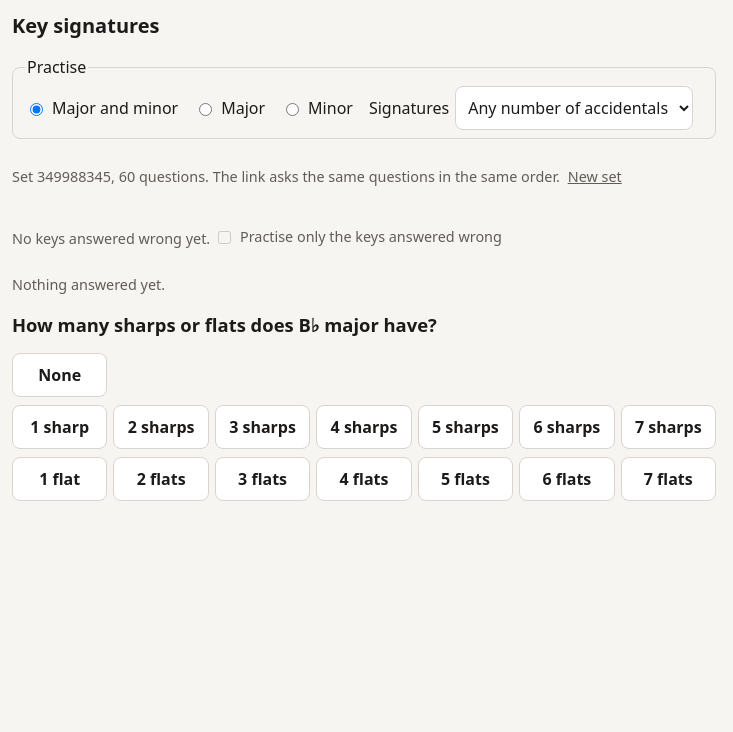
KeyQuiz: how many? › scores a right answer and shows the circle of fifths
Click the button "2 flats" at [161, 479], box 113,457 -> 209,501
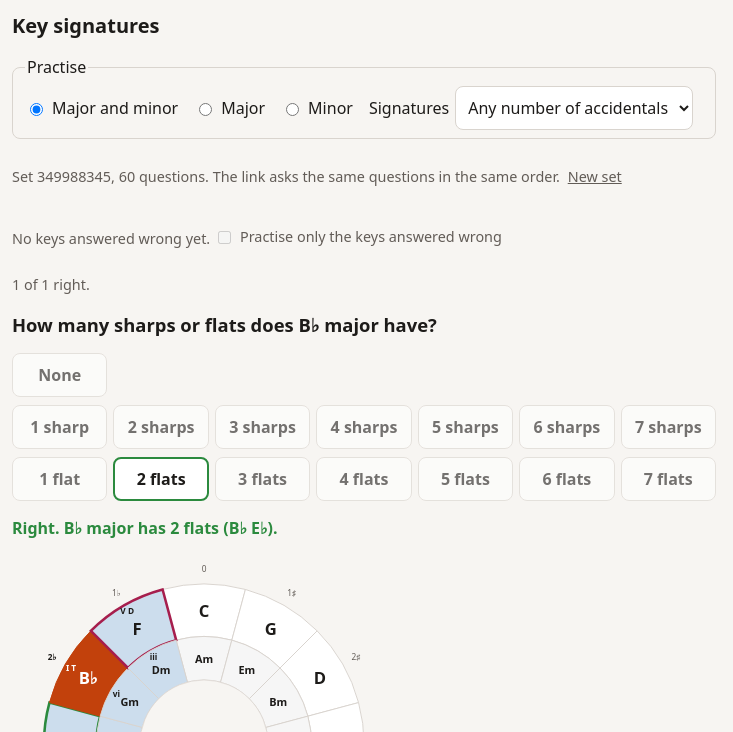
Result: the text "1 of 1 right." is shown at 12,275 -> 90,294
Result: the message shows "Right." at 12,517 -> 60,539
Result: the button "7 sharps" is disabled at 621,405 -> 716,449
